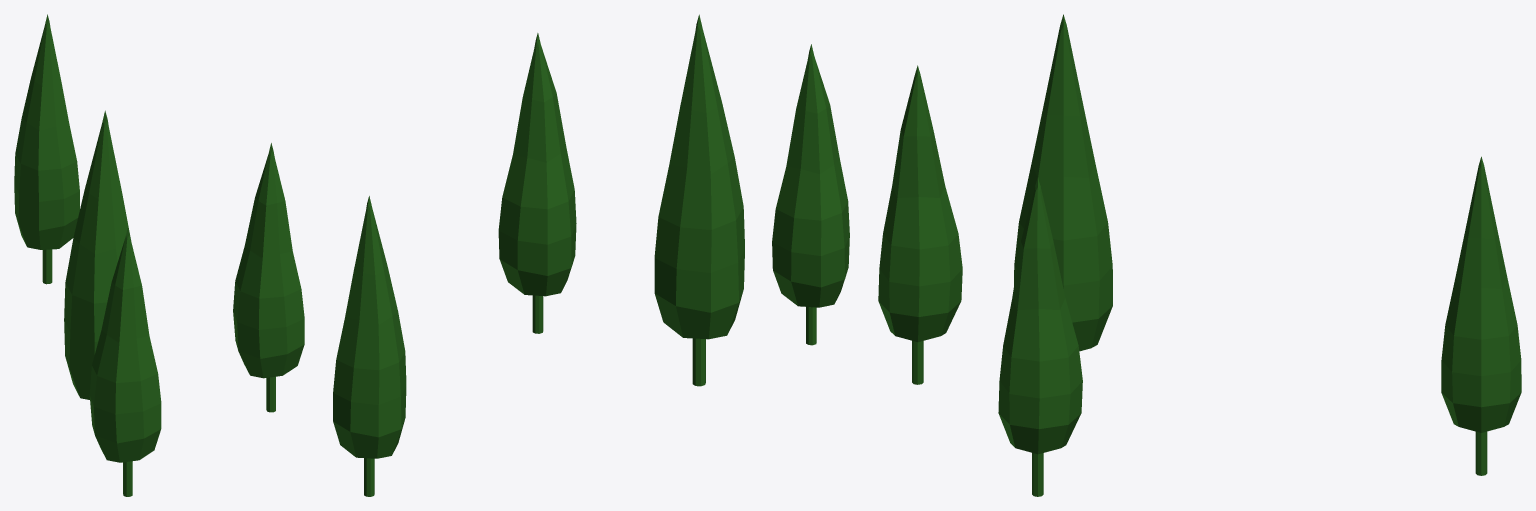
Rendered from cypressTree_cluster.fbx.
The picture shows the model from 3 angles, left to right: view 1: azimuth 30°, elevation 25°; view 2: azimuth 150°, elevation 25°; view 3: azimuth 270°, elevation 25°; orthographic projection. The views are drawn at different scales.
Parts seen in each view (by area): view 1: cypressTree_2, cypressTree_4, cypressTree_3, cypressTree_1; view 2: cypressTree_1, cypressTree_4, cypressTree_2, cypressTree_3; view 3: cypressTree_2, cypressTree_4, cypressTree_1, cypressTree_3.
Part boxes in pixels (<box>): cypressTree_2: <box>89,227,161,496</box>; cypressTree_4: <box>233,143,304,412</box>; cypressTree_3: <box>14,14,79,284</box>; cypressTree_1: <box>64,110,129,399</box>; cypressTree_1: <box>654,14,744,386</box>; cypressTree_4: <box>498,33,576,333</box>; cypressTree_2: <box>772,44,849,345</box>; cypressTree_3: <box>333,196,406,496</box>; cypressTree_2: <box>878,65,962,384</box>; cypressTree_4: <box>998,177,1082,496</box>; cypressTree_1: <box>1014,14,1112,351</box>; cypressTree_3: <box>1441,156,1521,475</box>.
Size of the model in its own units: 8.51 by 10.48 by 15.61.
